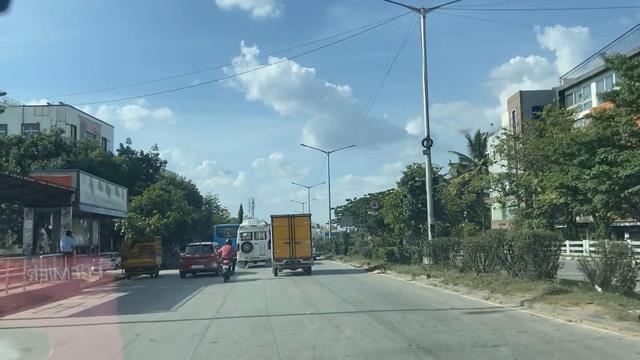HMV: (268, 213, 317, 275), (235, 218, 275, 268)
LMV: (185, 239, 223, 274), (221, 240, 237, 281)
